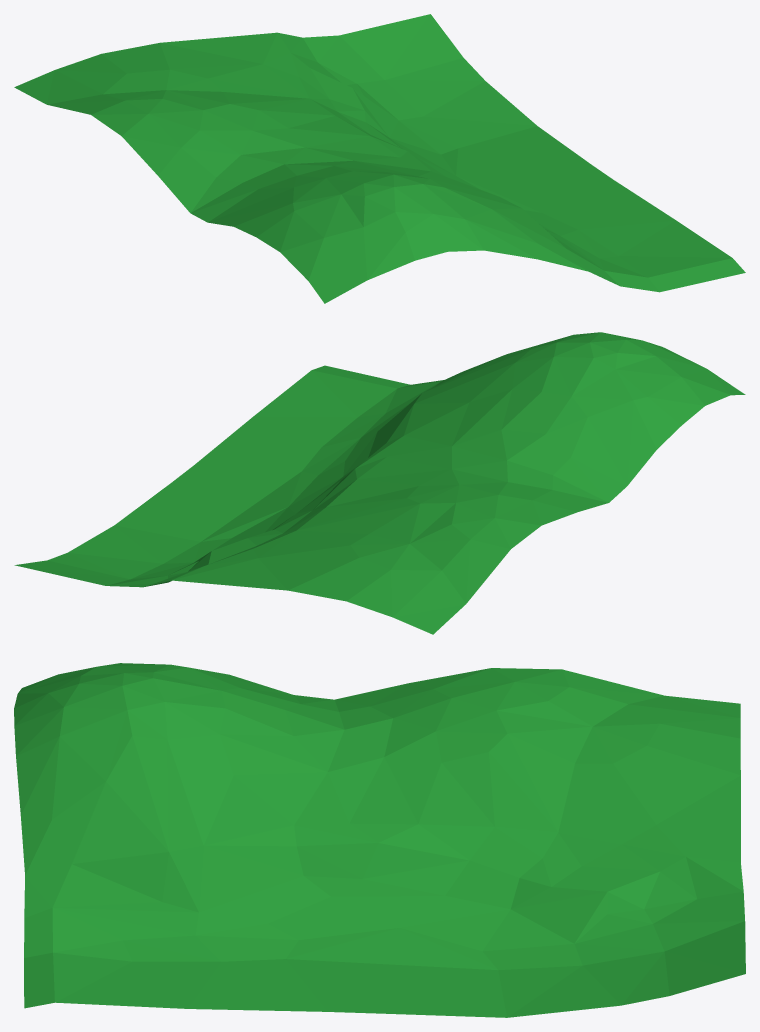
File: Field_R1.fbx
The picture shows the model from 3 angles, top to bottom: view 1: azimuth 30°, elevation 25°; view 2: azimuth 150°, elevation 25°; view 3: azimuth 270°, elevation 25°; orthographic projection. The views are drawn at different scales.
Visible parts, largest first — view 1: R1; view 2: R1; view 3: R1.
Boxes of the visible parts, <box> form: R1: <box>14,14,745,303</box>; R1: <box>14,332,745,634</box>; R1: <box>14,663,745,1017</box>.
Size of the model in its own units: 2384 by 734 by 3087.
